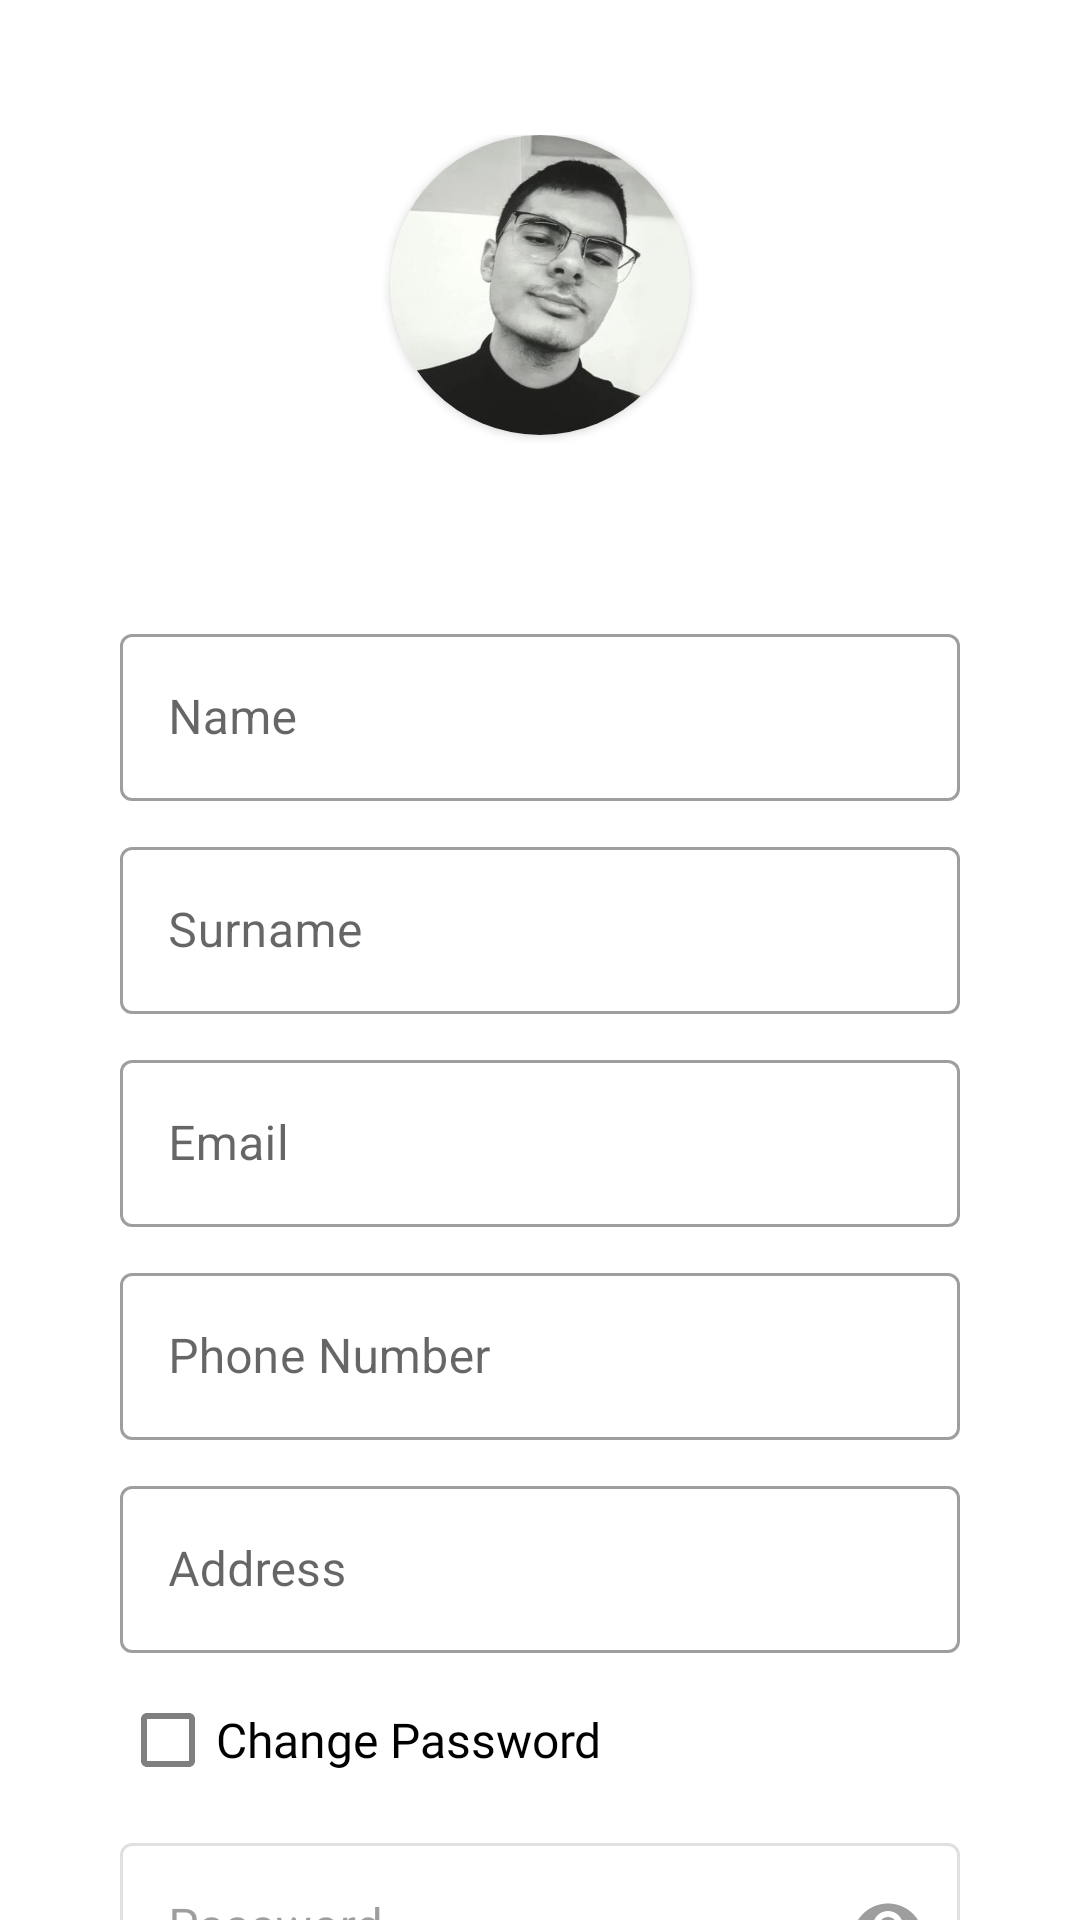

Screen size 1080 x 1920. Icon name, then its center in pixels as [x,y]:
profile pic: [540,285]
